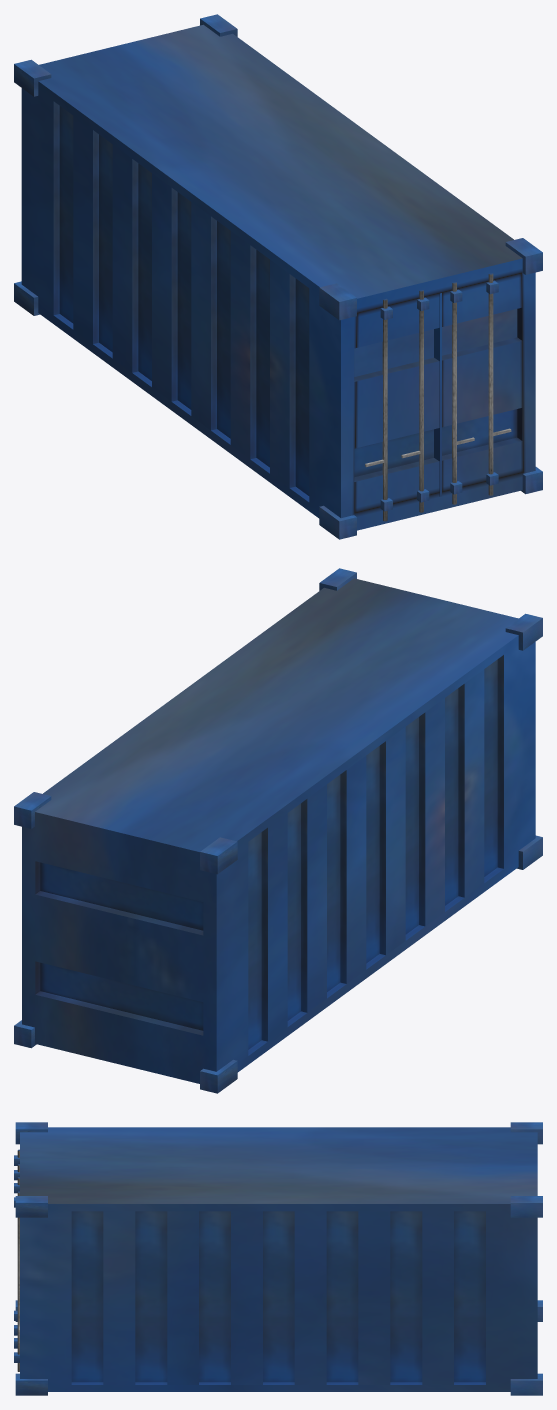
Rendered from container.fbx.
3 views of the same model, one above another, from view 1: azimuth 30°, elevation 25°; view 2: azimuth 150°, elevation 25°; view 3: azimuth 270°, elevation 25° (orthographic). The views are drawn at different scales.
Parts seen in each view (by area): view 1: Cube.002; view 2: Cube.002; view 3: Cube.002.
Boxes of the visible parts, left/top/right/bottom form: Cube.002: left=14, top=14, right=542, bottom=539; Cube.002: left=14, top=568, right=542, bottom=1093; Cube.002: left=14, top=1122, right=542, bottom=1395.
Bounding box in the file's own units: 209 × 233 × 581.
